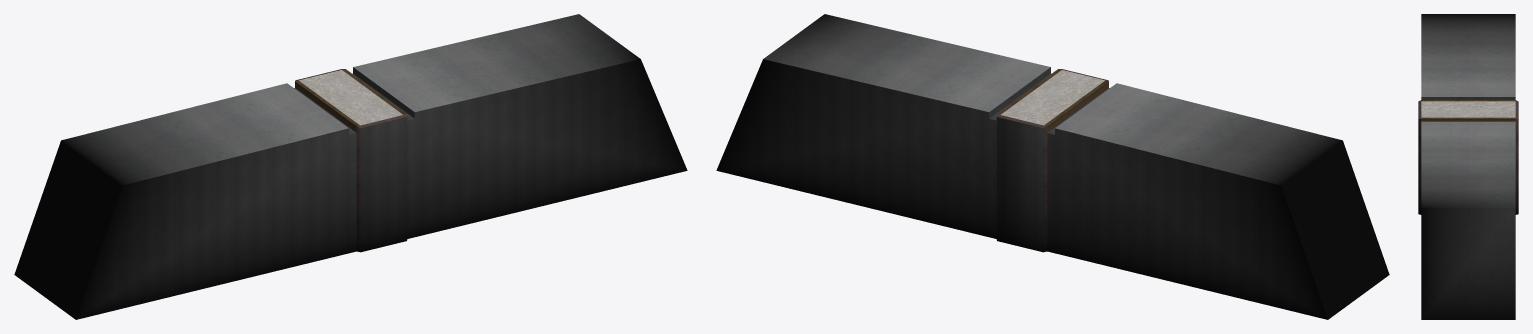
File: AMB_MEI_HUMIKIRI.glb
The picture shows the model from 3 angles, left to right: view 1: azimuth 30°, elevation 25°; view 2: azimuth 150°, elevation 25°; view 3: azimuth 270°, elevation 25°; orthographic projection. The views are drawn at different scales.
Visible parts, largest first — view 1: obj1; view 2: obj1; view 3: obj1.
Boxes of the visible parts, x1=… form: obj1: x1=14, y1=14, x2=687, y2=319; obj1: x1=716, y1=14, x2=1389, y2=319; obj1: x1=1418, y1=14, x2=1518, y2=319.
Bounding box in the file's own units: 35.8 × 7 × 6.63.
3 materials, 3 textured.
